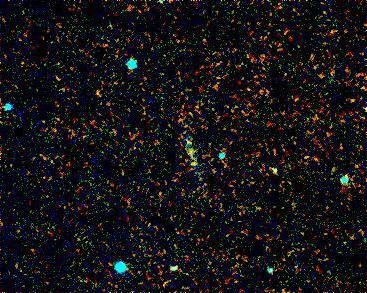star: (185, 146, 215, 176)
